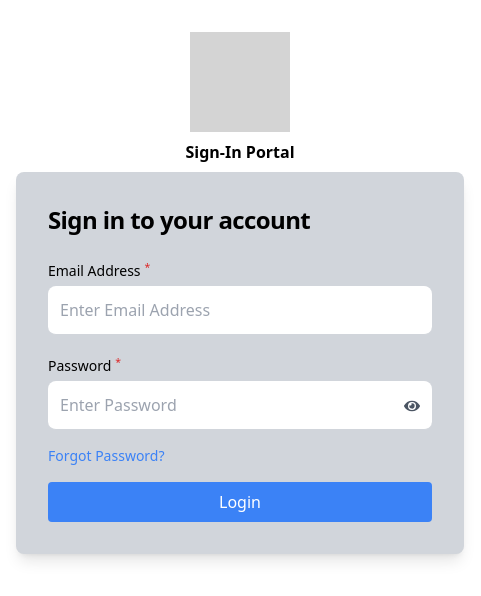
Test: LoginFormTemplate › should display an error if email is invalid
Expected: the form is shown, [48,260,432,522]
Step 1. Type "invalid-email" into the field with placeholder "Enter Email Address" → (240, 310), box [48,286,432,335]
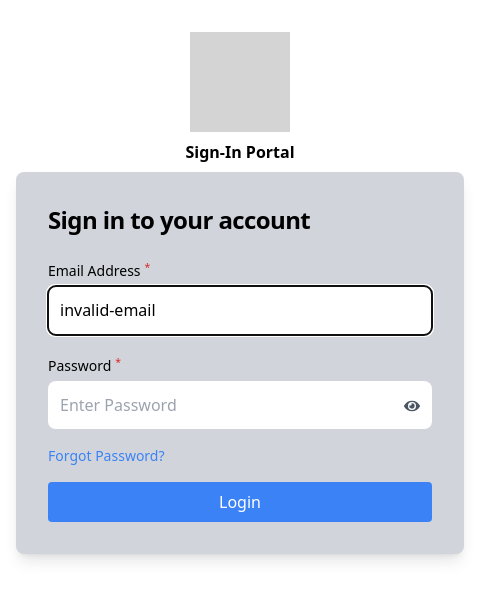
Step 2. Type "ValidPassword1!" into the password field with placeholder "Enter Password" → (240, 406), box [48,381,432,430]
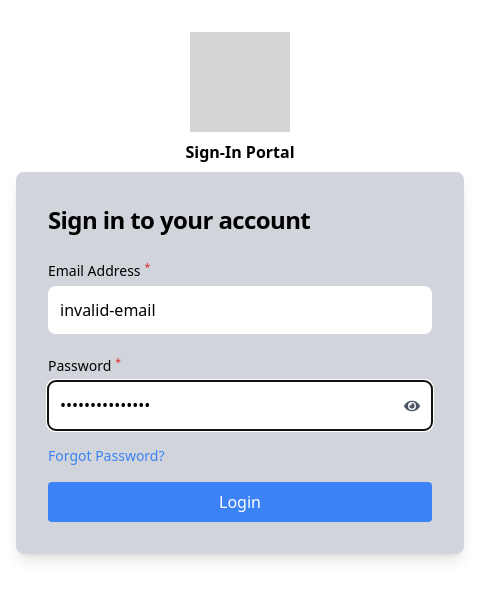
Step 3. Click the button "Login" → (240, 502), box [48,482,432,522]
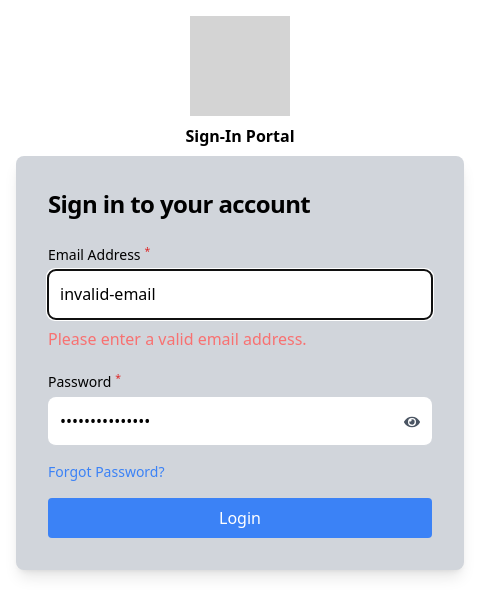
Result: the message "Please enter a valid email address." is shown at [48,328,307,350]
